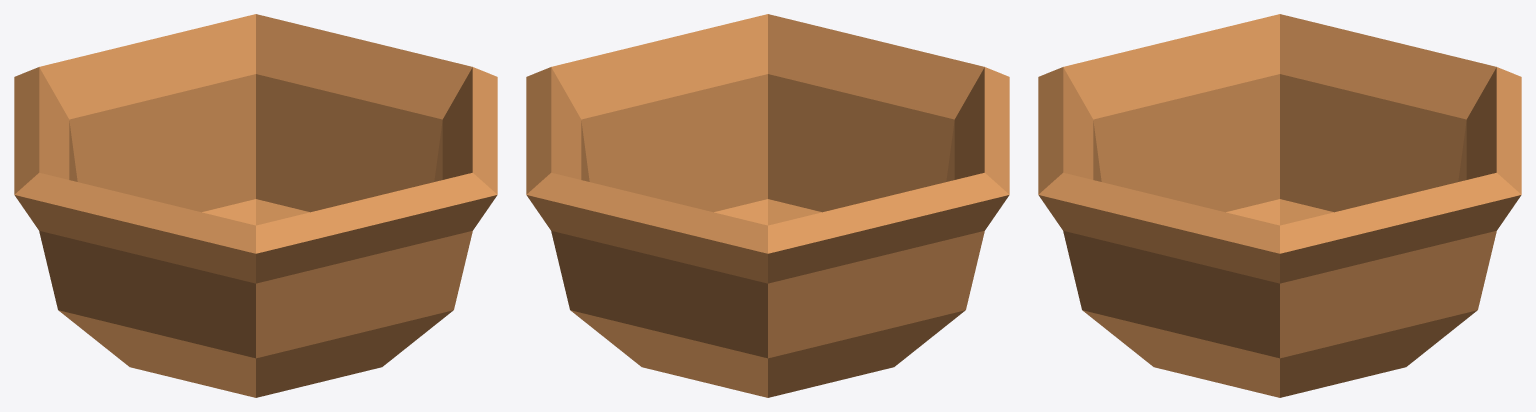
Rendered from SM_Prop_Bowl_01.fbx.
3 views of the same model, side by side, from view 1: azimuth 30°, elevation 25°; view 2: azimuth 150°, elevation 25°; view 3: azimuth 270°, elevation 25° (orthographic).
Visible parts, largest first — view 1: SM_Prop_Bowl_01; view 2: SM_Prop_Bowl_01; view 3: SM_Prop_Bowl_01.
Part boxes in pixels (x1,y1,x2,y2): SM_Prop_Bowl_01: [14, 14, 497, 397]; SM_Prop_Bowl_01: [526, 14, 1009, 397]; SM_Prop_Bowl_01: [1038, 14, 1521, 397].
Bounding box in the file's own units: 68.47 × 29.64 × 59.3.
